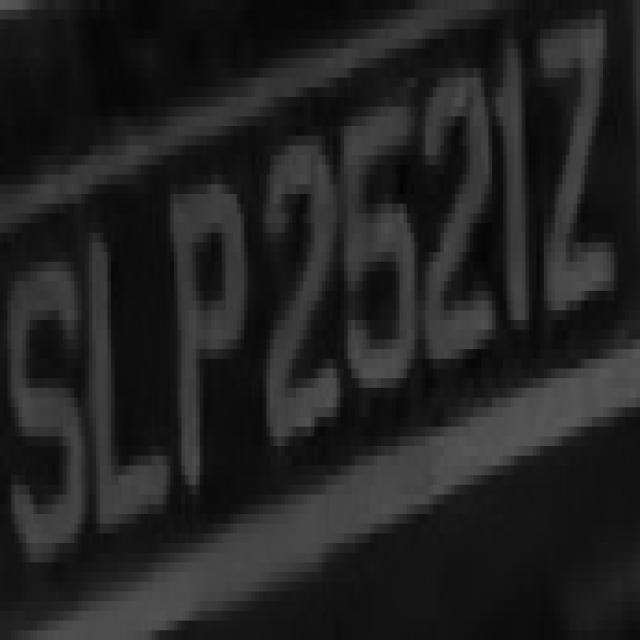1: (485, 39, 540, 378)
2: (252, 155, 352, 485), (399, 39, 488, 378)
5: (326, 68, 418, 407)
L: (85, 155, 178, 553)
P: (170, 165, 252, 514)
S: (4, 184, 85, 630)
Z: (529, 10, 636, 339)
